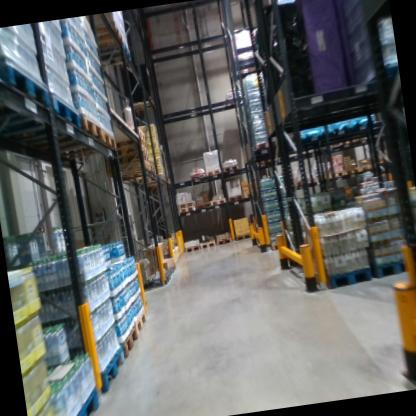pallet: (0, 85, 91, 158), (0, 54, 53, 121), (36, 110, 106, 159), (46, 123, 117, 162), (86, 342, 131, 398), (319, 260, 374, 296), (86, 38, 137, 75), (53, 381, 106, 416), (88, 15, 127, 53), (368, 252, 413, 282), (249, 135, 284, 166), (99, 142, 149, 162), (115, 321, 141, 359), (105, 159, 151, 180), (288, 128, 328, 150), (100, 136, 148, 154), (105, 150, 150, 168), (131, 272, 171, 290), (109, 125, 145, 144), (235, 54, 260, 80), (133, 170, 167, 189), (128, 93, 158, 114), (131, 308, 149, 338), (267, 235, 292, 253), (196, 233, 218, 253), (213, 230, 234, 248), (181, 236, 203, 253), (221, 161, 240, 175), (227, 190, 244, 203), (205, 168, 223, 180), (177, 203, 195, 214), (185, 172, 206, 181), (195, 199, 212, 210), (176, 199, 194, 209), (234, 232, 252, 242), (293, 179, 312, 188), (211, 197, 227, 206), (242, 190, 258, 199), (148, 162, 157, 175)
